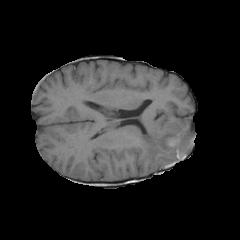glioma: (128, 112, 196, 169)
